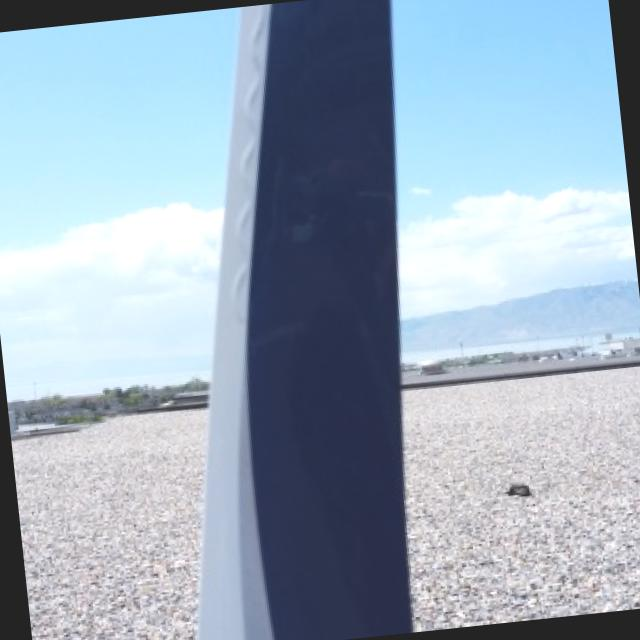healthy: (195, 0, 408, 640)
